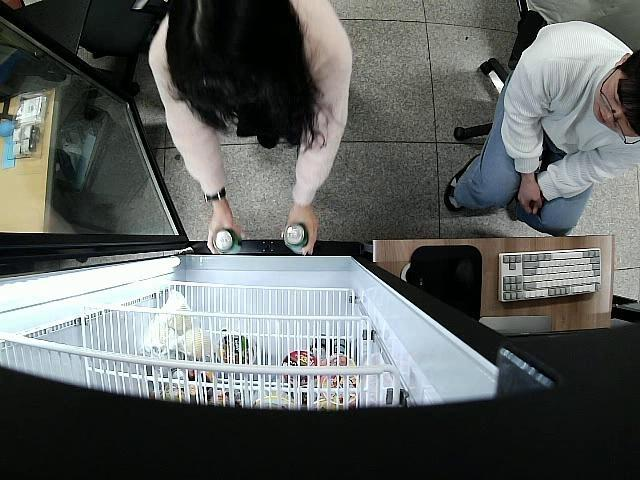12_chilsungCider: (281, 222, 312, 255), (210, 227, 243, 256)
